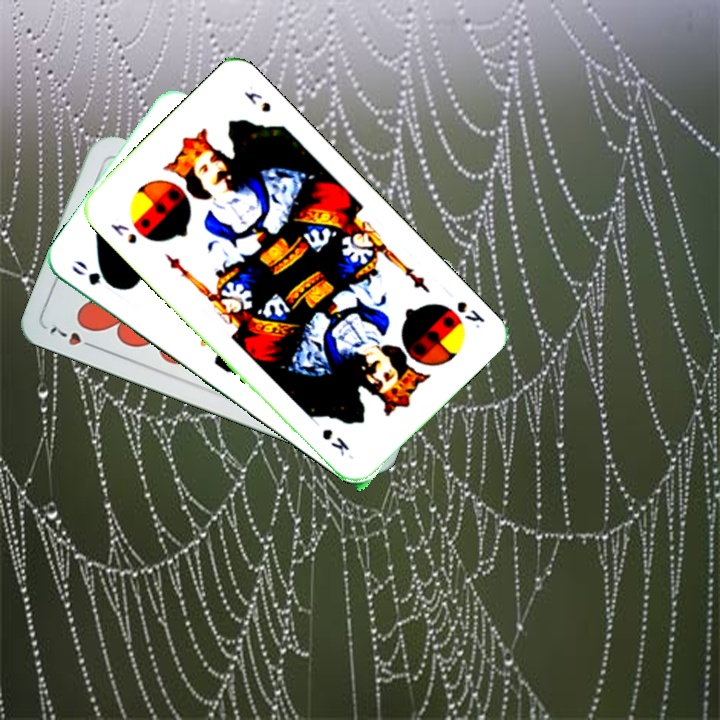GO: (67, 256, 123, 293)
H7: (45, 322, 100, 352)
SK: (453, 297, 488, 331), (106, 219, 140, 247)
